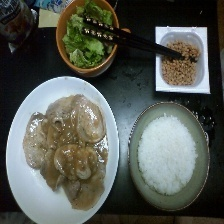rice: (136, 113, 197, 195)
